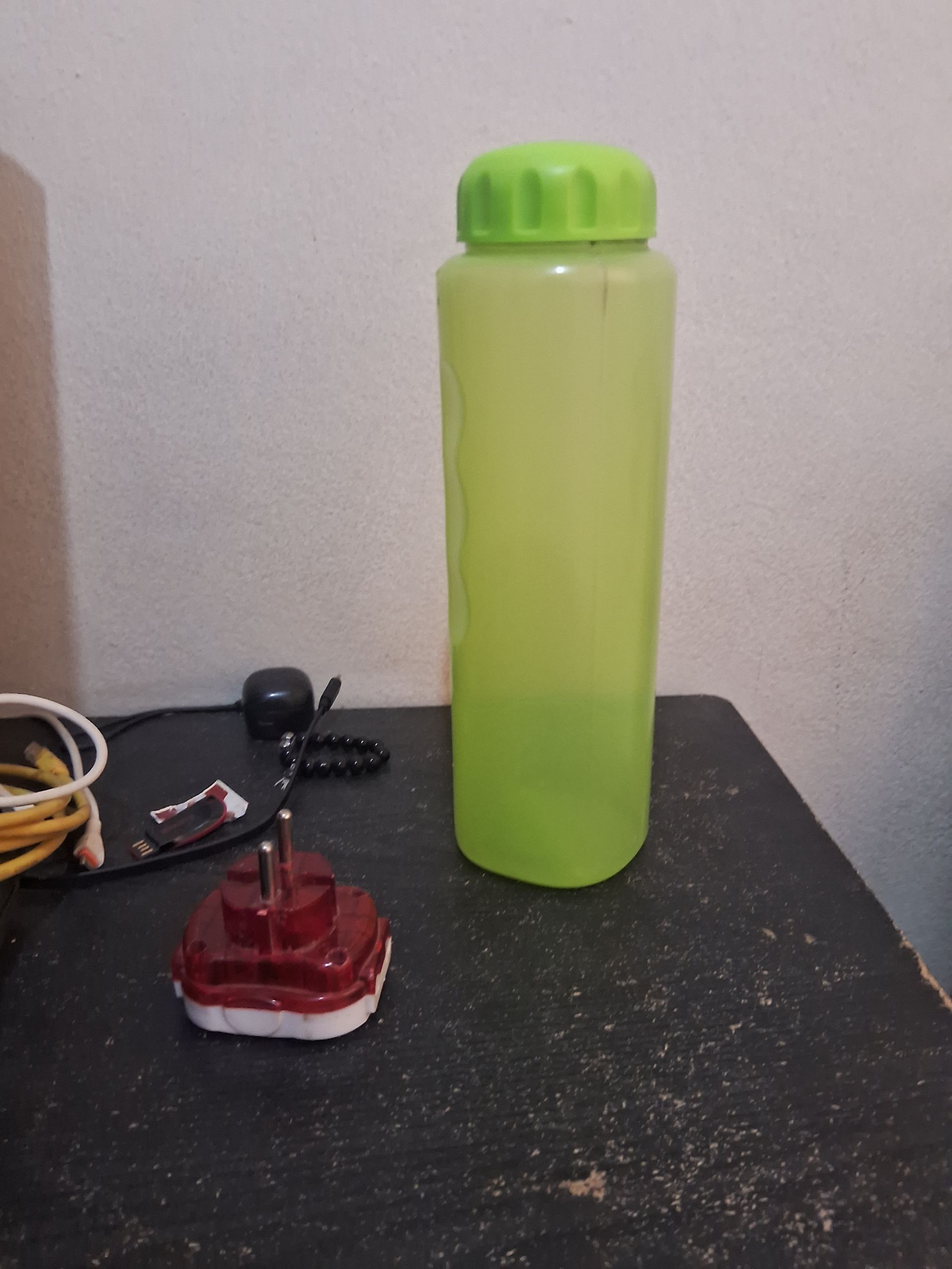Multi_adapter: (167, 802, 400, 1046)
Water_bottle: (432, 132, 693, 895)
